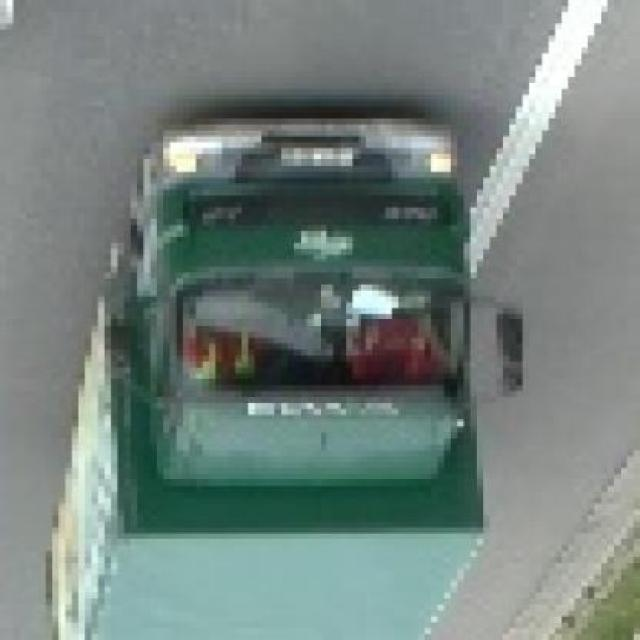truck: (40, 119, 517, 640)
